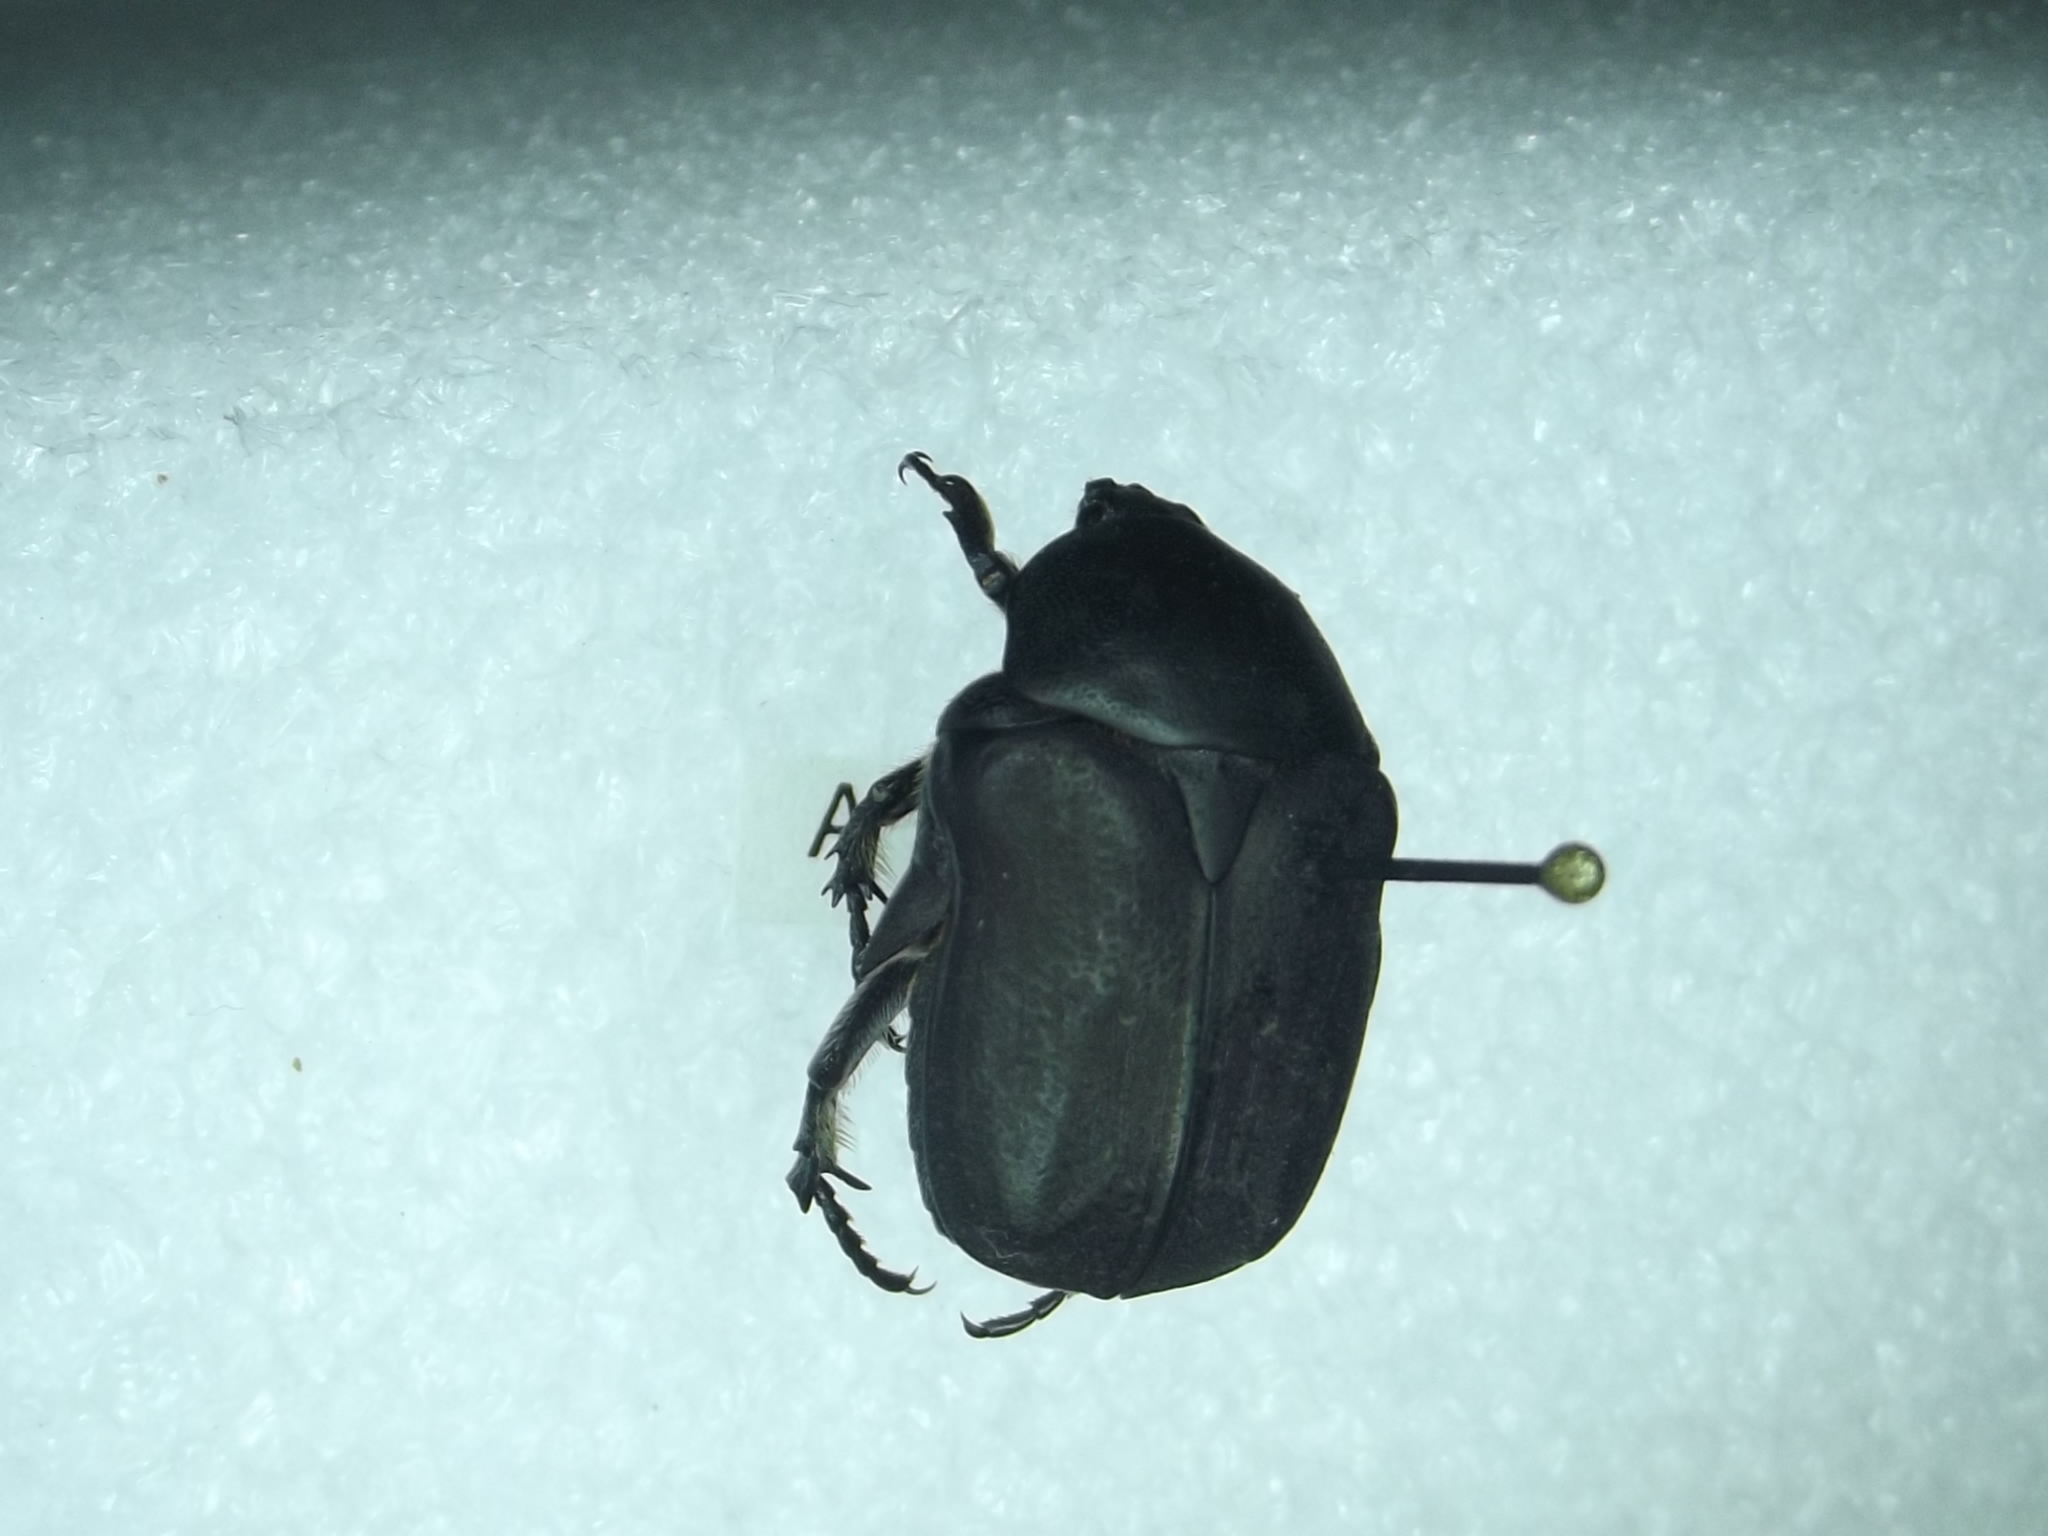Protaetia_asiatica: (764, 410, 1421, 1359)
